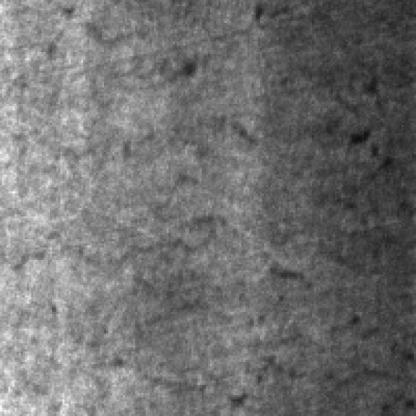crazing: (252, 83, 414, 412), (6, 170, 221, 410)
